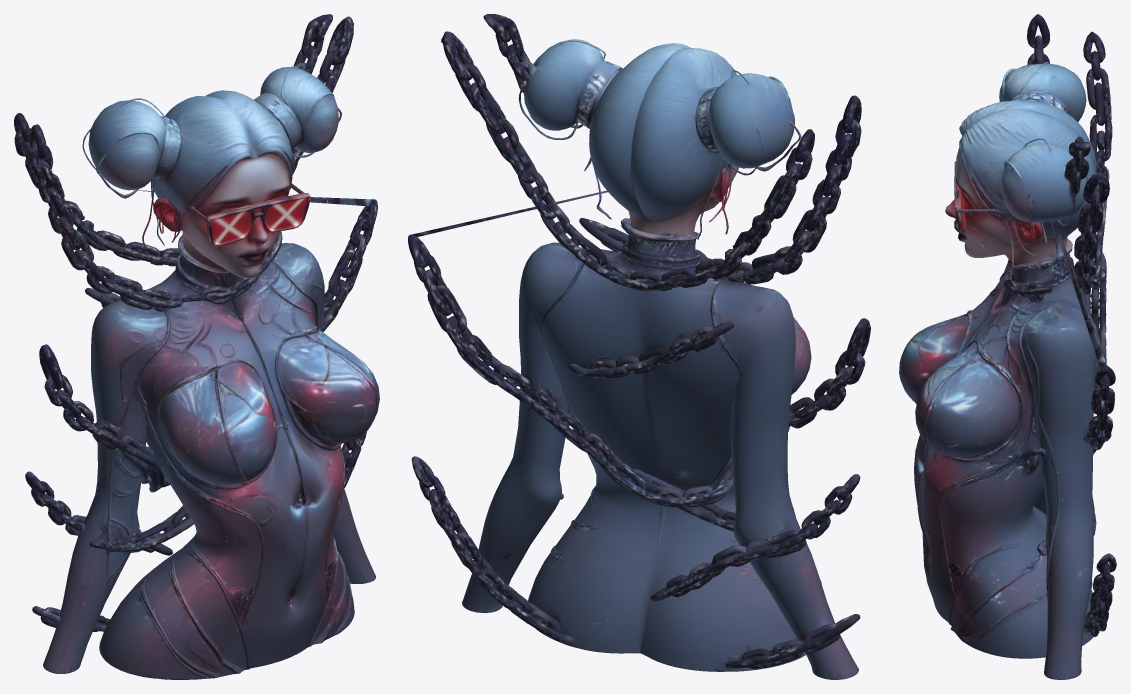
The picture shows the model from 3 angles, left to right: view 1: azimuth 30°, elevation 25°; view 2: azimuth 150°, elevation 25°; view 3: azimuth 270°, elevation 25°; orthographic projection. The views are drawn at different scales.
Parts seen in each view (by area): view 1: node_0; view 2: node_0; view 3: node_0.
Boxes of the visible parts, box(x1,y1,x2,y2) form: node_0: box(14, 14, 379, 679); node_0: box(408, 14, 870, 679); node_0: box(899, 14, 1116, 679).
Bounding box in the file's own units: 0.7166 × 0.9919 × 0.3758.
1 material, 1 textured.
